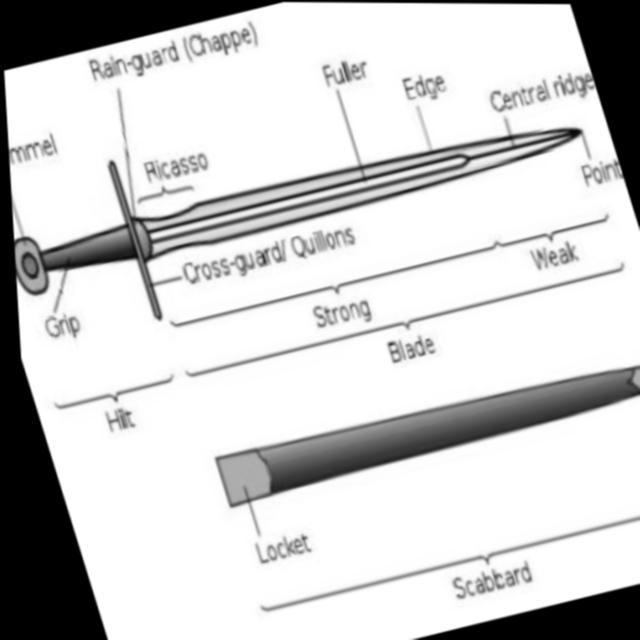weapon: (201, 342, 640, 509)
